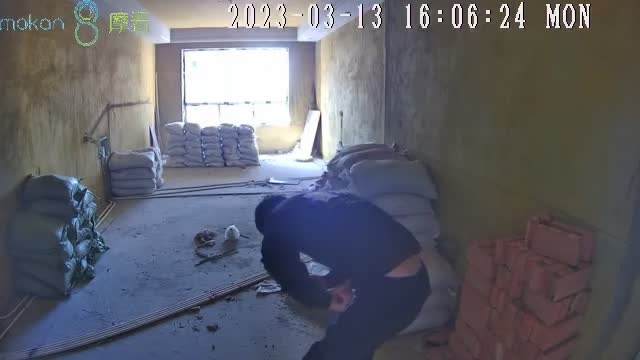people: (253, 192, 432, 359)
window: (183, 50, 291, 126)
